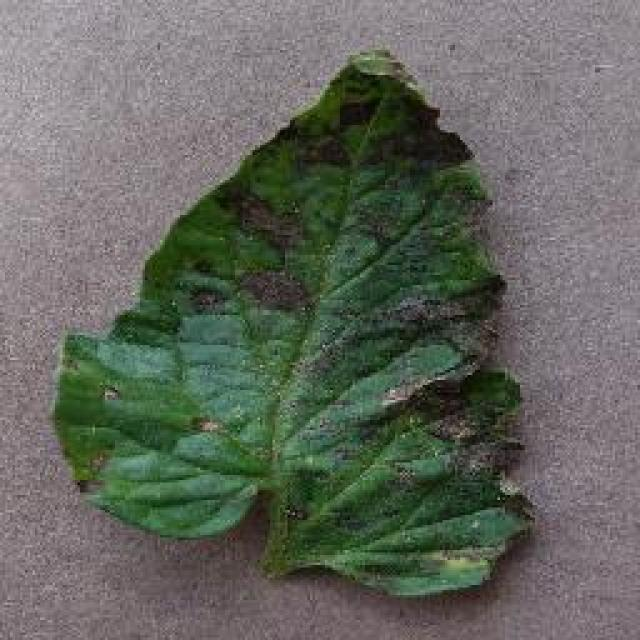Tomato___Early_blight: (47, 45, 540, 601)
